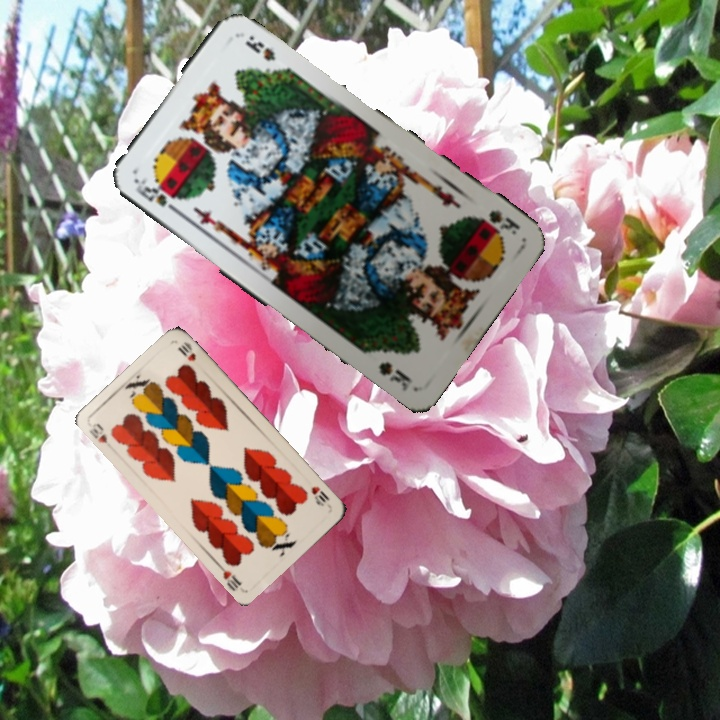H10: (307, 482, 332, 509), (85, 419, 110, 446)
SK: (131, 176, 183, 218), (476, 205, 523, 238)
